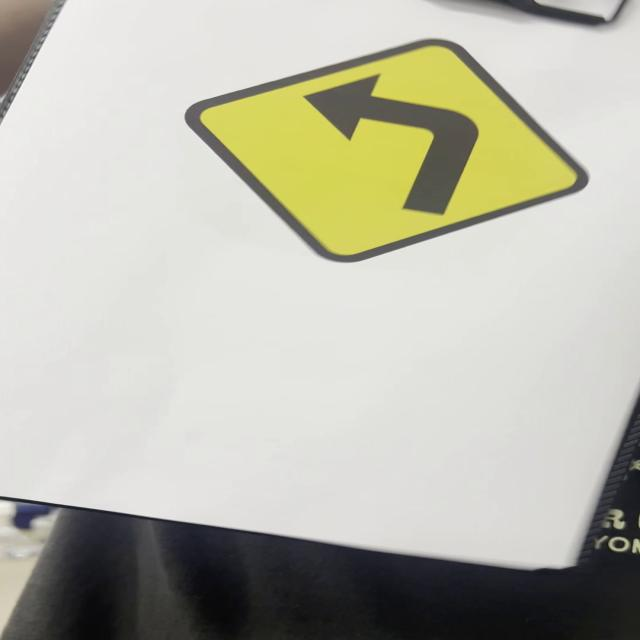left: (182, 37, 592, 262)
